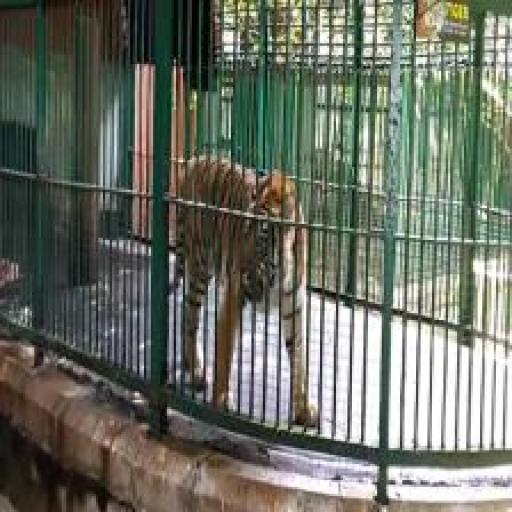Tiger: (169, 137, 325, 433)
